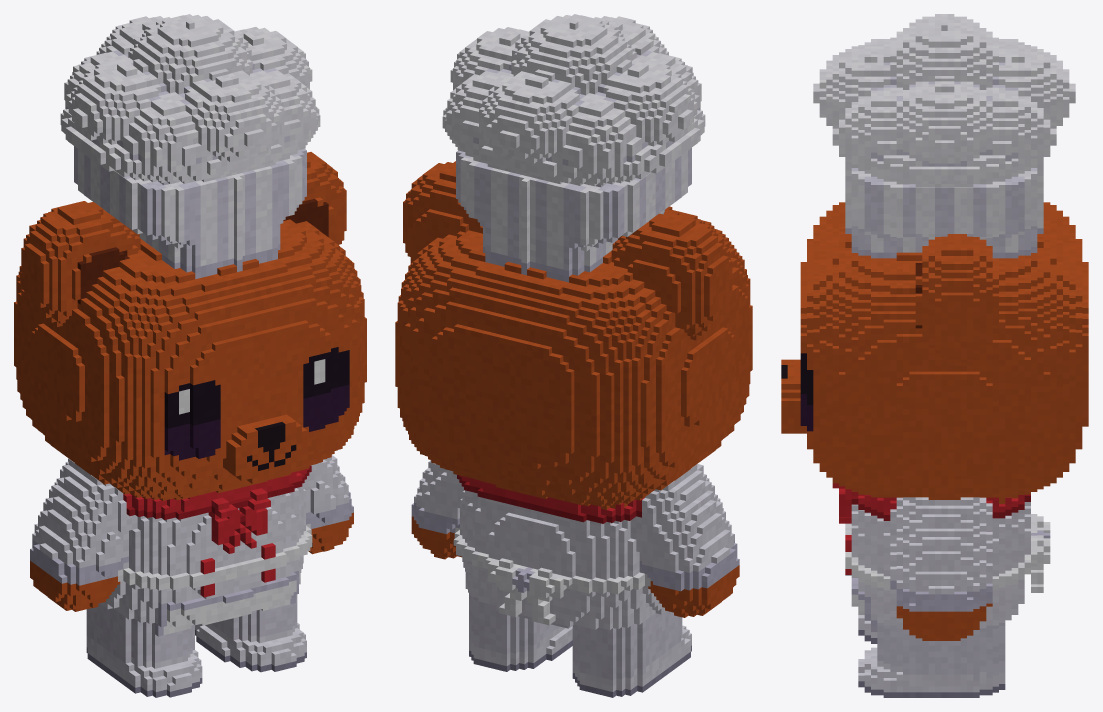
The picture shows the model from 3 angles, left to right: view 1: azimuth 30°, elevation 25°; view 2: azimuth 150°, elevation 25°; view 3: azimuth 270°, elevation 25°; orthographic projection.
Parts seen in each view (by area): view 1: Browchef; view 2: Browchef; view 3: Browchef.
Boxes of the visible parts, x1,y1,x2,y2 form: Browchef: [14, 14, 366, 697]; Browchef: [395, 14, 752, 697]; Browchef: [781, 14, 1088, 697].
Size of the model in its own units: 1.1 by 2.18 by 0.9601.
